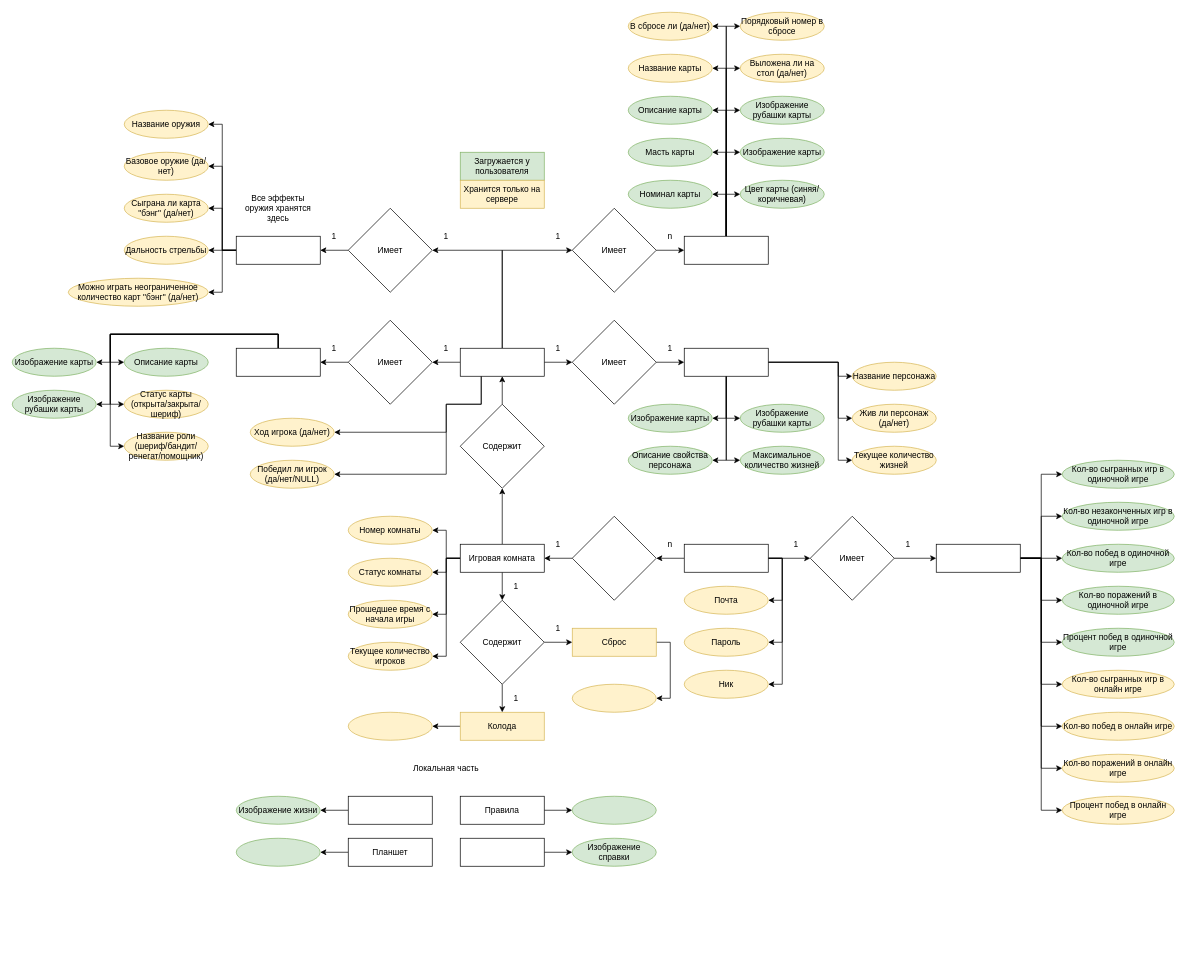
Image size: 1187x975. Some labels were removed from this diagram. The shapes that lost their labels are listed below. From the top down, each one's box as (x1, y1, x2, y2) in pixels, then its label:
(236, 236, 320, 264): Оружие
(684, 236, 768, 264): Игровая карта
(236, 348, 320, 376): Карта ролей
(460, 348, 544, 376): Игрок
(684, 348, 768, 376): Карта персонажей
(572, 516, 656, 600): Может находиться в
(684, 544, 768, 572): Пользователь
(936, 544, 1020, 572): Достижения
(572, 684, 656, 712): Количество карт в сбросе
(348, 712, 432, 740): Количество карт в колоде
(348, 796, 432, 824): Жизни
(572, 796, 656, 824): Изображение правил
(236, 838, 320, 866): Изображение планшета
(460, 838, 544, 866): Справка
